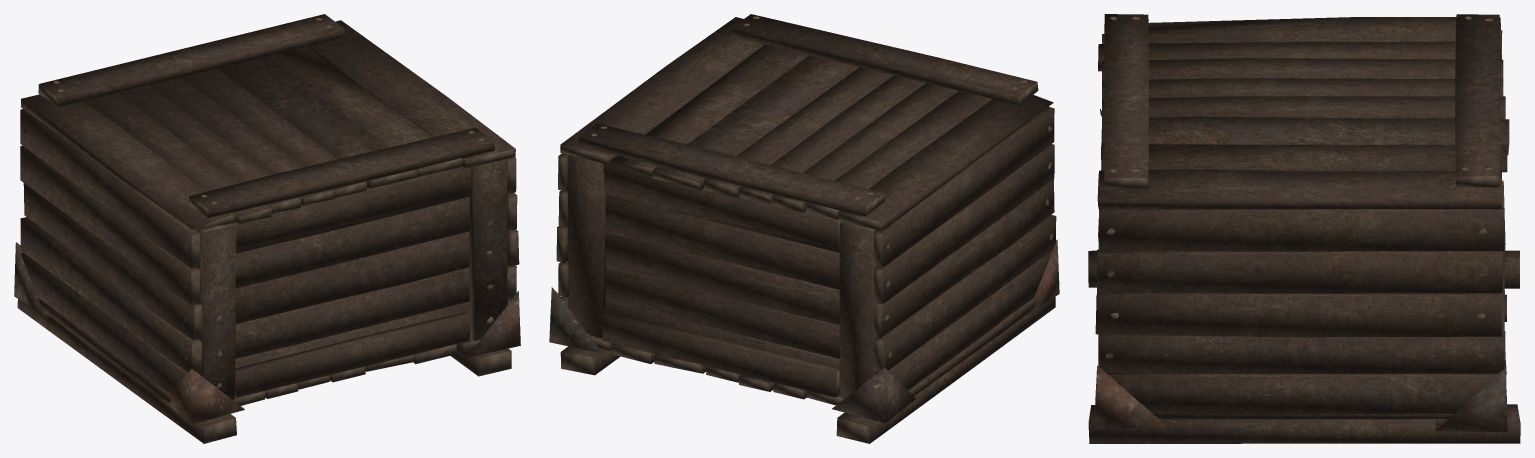
The model's file is crate.fbx.
3 renders of one model, left to right at view 1: azimuth 30°, elevation 25°; view 2: azimuth 150°, elevation 25°; view 3: azimuth 270°, elevation 25°, orthographic. The views are drawn at different scales.
Visible parts, largest first — view 1: SM_Crate; view 2: SM_Crate; view 3: SM_Crate.
Part boxes in pixels (left/top/right/bottom): SM_Crate: left=14, top=14, right=520, bottom=443; SM_Crate: left=549, top=14, right=1059, bottom=443; SM_Crate: left=1088, top=14, right=1520, bottom=443.
Size of the model in its own units: 10.21 by 6.69 by 9.89.
